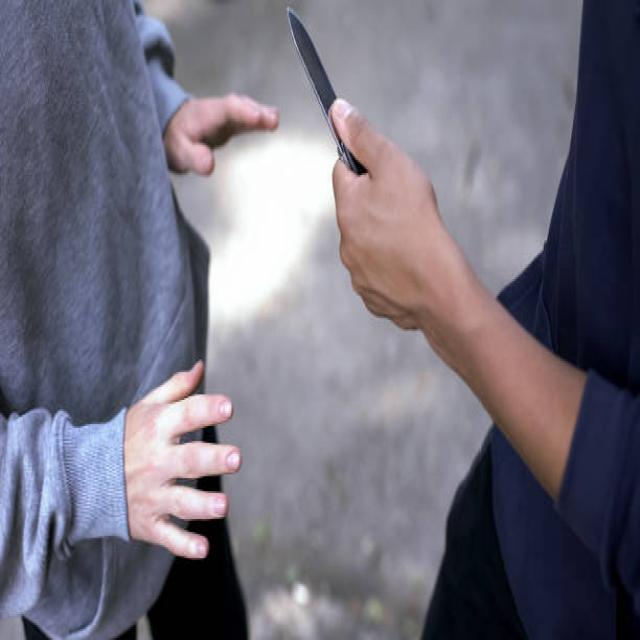faca: (269, 3, 454, 370)
